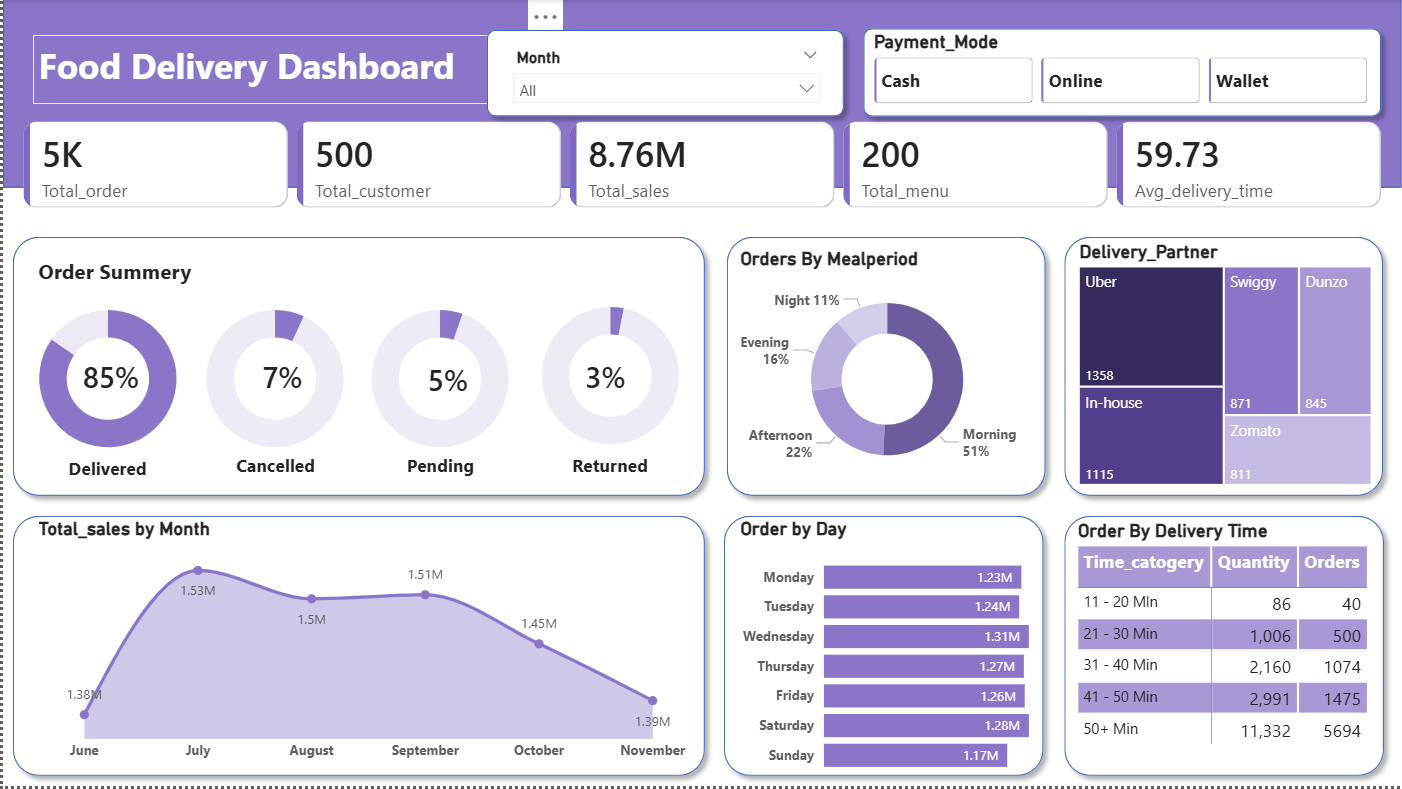

Layout of this report page (visuals, bound fields, positions):
{"tool":"powerbi","page":{"name":"Page 1","canvas":[1280,720],"ordinal":0},"visuals":[{"type":"shape","box":[0,0,1279.5,172.6],"z":0},{"type":"cardVisual","fields":{"Data":["1_messure.Total_order","1_messure.Total_customer","1_messure.Total_sales","1_messure.Total_menu","1_messure.Avg_del_time"]},"box":[0,107.5,1279.5,113.6],"z":1000},{"type":"donutChart","fields":{"Y":["1_messure.Delivered","1_messure.Other_deliverd"]},"box":[0,272.6,190.8,168.1],"z":2000},{"type":"shape","box":[0,207.9,651.1,255],"z":3000},{"type":"shape","box":[0,463.3,651.1,255.9],"z":4000},{"type":"shape","box":[652.7,207.9,309.6,255],"z":5000},{"type":"shape","box":[962.3,207.9,309.6,255],"z":6000},{"type":"donutChart","fields":{"Y":["1_messure.Cancelled","1_messure.Other_cancel"]},"box":[153.3,264.1,189.7,167],"z":7000},{"type":"donutChart","fields":{"Y":["1_messure.Pending","1_messure.Other_pending"]},"box":[305.1,264.1,189.7,167],"z":8000},{"type":"donutChart","fields":{"Y":["1_messure.Returned","1_messure.Other_retrun"]},"box":[459.9,261.1,191.2,167],"z":9000},{"type":"donutChart","fields":{"Y":["1_messure.Delivered","1_messure.Other_deliverd"]},"box":[0,264.1,191.2,167],"z":10000},{"type":"textbox","box":[27.3,412.8,136.6,34.9],"z":11000},{"type":"textbox","box":[180.6,409.8,136.6,34.9],"z":12000},{"type":"textbox","box":[487.2,409.8,136.6,34.9],"z":13000},{"type":"textbox","box":[332.4,409.8,136.6,34.9],"z":14000},{"type":"cardVisual","fields":{"Data":["1_messure.%_delivered"]},"box":[44,314.2,119.9,60.7],"z":15000},{"type":"cardVisual","fields":{"Data":["1_messure.%_cancelled"]},"box":[207.9,314.2,118.4,60.7],"z":16000},{"type":"cardVisual","fields":{"Data":["1_messure.%_pending"]},"box":[359.7,317.2,97.1,60.7],"z":17000},{"type":"cardVisual","fields":{"Data":["1_messure.%-returned"]},"box":[503.9,314.2,103.2,60.7],"z":18000},{"type":"textbox","box":[27.3,230.7,188.2,39.5],"z":19000},{"type":"areaChart","fields":{"Category":["Orders.Order_Date.1.Variation.Date Hierarchy.Month"],"Y":["1_messure.Total_sales"]},"box":[27.3,475.1,613.2,230.7],"z":20000},{"type":"shape","box":[651.1,463.3,310.4,255.9],"z":21000},{"type":"shape","box":[961.5,463.3,310.4,255.9],"z":22000},{"type":"donutChart","title":"Orders By Mealperiod","fields":{"Category":["Orders.Meal_period"],"Y":["1_messure.Total_order"]},"box":[669.3,227.7,277.8,220.1],"z":23000},{"type":"treemap","title":"Delivery_Partner","fields":{"Group":["Orders.Delivery_Partner"],"Values":["1_messure.Total_order"]},"box":[980.5,221.6,276.2,227.7],"z":24000},{"type":"clusteredBarChart","title":"Order by Day ","fields":{"Category":["Orders.Day Name"],"Y":["1_messure.Total_order"]},"box":[669.3,475.5,310.4,243.8],"z":25000},{"type":"pivotTable","title":"Order By Delivery Time","fields":{"Rows":["Orders.Time_catogery"],"Values":["Sum(Order_Items.Quantity)","CountNonNull(Order_Items.Order_ID)"]},"box":[979,476.6,300.5,242.8],"z":26000},{"type":"textbox","box":[27.3,33.4,485.7,62.2],"z":27000},{"type":"shape","box":[434.1,19.7,344.5,97.1],"z":28000},{"type":"shape","box":[778.6,18.2,491.8,98.7],"z":29000},{"type":"slicer","fields":{"Values":["Orders.Order_Date.1.Variation.Date Hierarchy.Month"]},"box":[456.9,39.5,300.5,57.7],"z":30000},{"type":"advancedSlicerVisual","fields":{"Values":["Orders.Payment_Mode"]},"box":[792.3,28.8,462.9,71.3],"z":31000},{"type":"image","box":[137.8,134.8,69.7,59.1],"z":32000},{"type":"image","box":[897.9,115.1,65.1,101.5],"z":32001},{"type":"image","box":[640.5,133.3,84.8,65.1],"z":32002},{"type":"image","box":[402.8,116.6,63.6,98.4],"z":32003},{"type":"image","box":[1170.5,130.2,63.6,72.7],"z":32004}]}

Visuals, with their boxes in screenshot pixels (x1, y1, x2, y2), scaled from the page's 1280x720 canvas onto the 1402x789 screenshot:
shape: {"x1": 0, "y1": 0, "x2": 1401, "y2": 189}
cardVisual - 1_messure.Total_order x 1_messure.Total_customer: {"x1": 0, "y1": 118, "x2": 1401, "y2": 242}
donutChart - 1_messure.Delivered x 1_messure.Other_deliverd: {"x1": 0, "y1": 299, "x2": 209, "y2": 483}
shape: {"x1": 0, "y1": 228, "x2": 713, "y2": 507}
shape: {"x1": 0, "y1": 508, "x2": 713, "y2": 788}
shape: {"x1": 715, "y1": 228, "x2": 1054, "y2": 507}
shape: {"x1": 1054, "y1": 228, "x2": 1393, "y2": 507}
donutChart - 1_messure.Cancelled x 1_messure.Other_cancel: {"x1": 168, "y1": 289, "x2": 376, "y2": 472}
donutChart - 1_messure.Pending x 1_messure.Other_pending: {"x1": 334, "y1": 289, "x2": 542, "y2": 472}
donutChart - 1_messure.Returned x 1_messure.Other_retrun: {"x1": 504, "y1": 286, "x2": 713, "y2": 469}
donutChart - 1_messure.Delivered x 1_messure.Other_deliverd: {"x1": 0, "y1": 289, "x2": 209, "y2": 472}
textbox: {"x1": 30, "y1": 452, "x2": 180, "y2": 491}
textbox: {"x1": 198, "y1": 449, "x2": 347, "y2": 487}
textbox: {"x1": 534, "y1": 449, "x2": 683, "y2": 487}
textbox: {"x1": 364, "y1": 449, "x2": 514, "y2": 487}
cardVisual - 1_messure.%_delivered: {"x1": 48, "y1": 344, "x2": 180, "y2": 411}
cardVisual - 1_messure.%_cancelled: {"x1": 228, "y1": 344, "x2": 357, "y2": 411}
cardVisual - 1_messure.%_pending: {"x1": 394, "y1": 348, "x2": 500, "y2": 414}
cardVisual - 1_messure.%-returned: {"x1": 552, "y1": 344, "x2": 665, "y2": 411}
textbox: {"x1": 30, "y1": 253, "x2": 236, "y2": 296}
areaChart - Orders.Order_Date.1.Variation.Date Hierarchy.Month x 1_messure.Total_sales: {"x1": 30, "y1": 521, "x2": 702, "y2": 773}
shape: {"x1": 713, "y1": 508, "x2": 1053, "y2": 788}
shape: {"x1": 1053, "y1": 508, "x2": 1393, "y2": 788}
"Orders By Mealperiod" donutChart: {"x1": 733, "y1": 250, "x2": 1037, "y2": 491}
"Delivery_Partner" treemap: {"x1": 1074, "y1": 243, "x2": 1376, "y2": 492}
"Order by Day " clusteredBarChart: {"x1": 733, "y1": 521, "x2": 1073, "y2": 788}
"Order By Delivery Time" pivotTable: {"x1": 1072, "y1": 522, "x2": 1401, "y2": 788}
textbox: {"x1": 30, "y1": 37, "x2": 562, "y2": 105}
shape: {"x1": 475, "y1": 22, "x2": 853, "y2": 128}
shape: {"x1": 853, "y1": 20, "x2": 1391, "y2": 128}
slicer - Orders.Order_Date.1.Variation.Date Hierarchy.Month: {"x1": 500, "y1": 43, "x2": 830, "y2": 107}
advancedSlicerVisual - Orders.Payment_Mode: {"x1": 868, "y1": 32, "x2": 1375, "y2": 110}
image: {"x1": 151, "y1": 148, "x2": 227, "y2": 212}
image: {"x1": 983, "y1": 126, "x2": 1055, "y2": 237}
image: {"x1": 702, "y1": 146, "x2": 794, "y2": 217}
image: {"x1": 441, "y1": 128, "x2": 511, "y2": 236}
image: {"x1": 1282, "y1": 143, "x2": 1352, "y2": 222}
